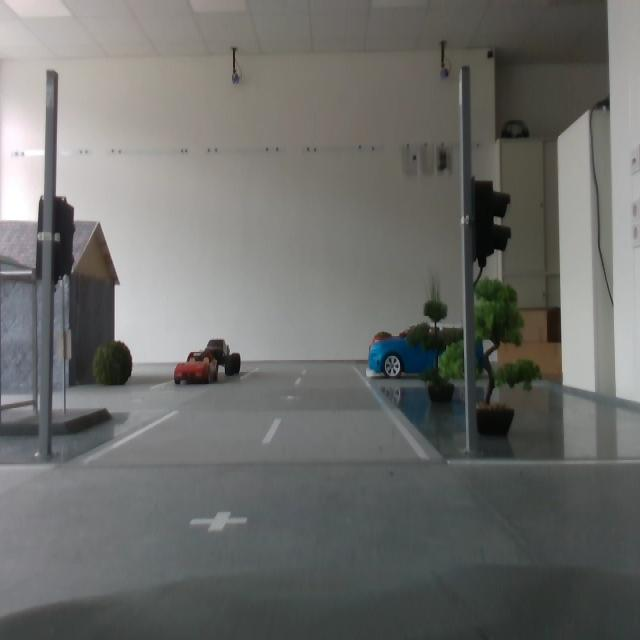car: (367, 324, 484, 380), (175, 351, 221, 388), (206, 337, 244, 379)
potted plant: (438, 280, 547, 436), (407, 299, 465, 404), (90, 338, 136, 392), (371, 332, 397, 365)
traffic light: (36, 193, 77, 288), (471, 176, 512, 268)
